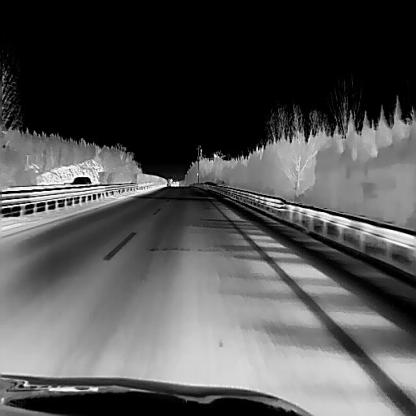car: (70, 175, 91, 183)
